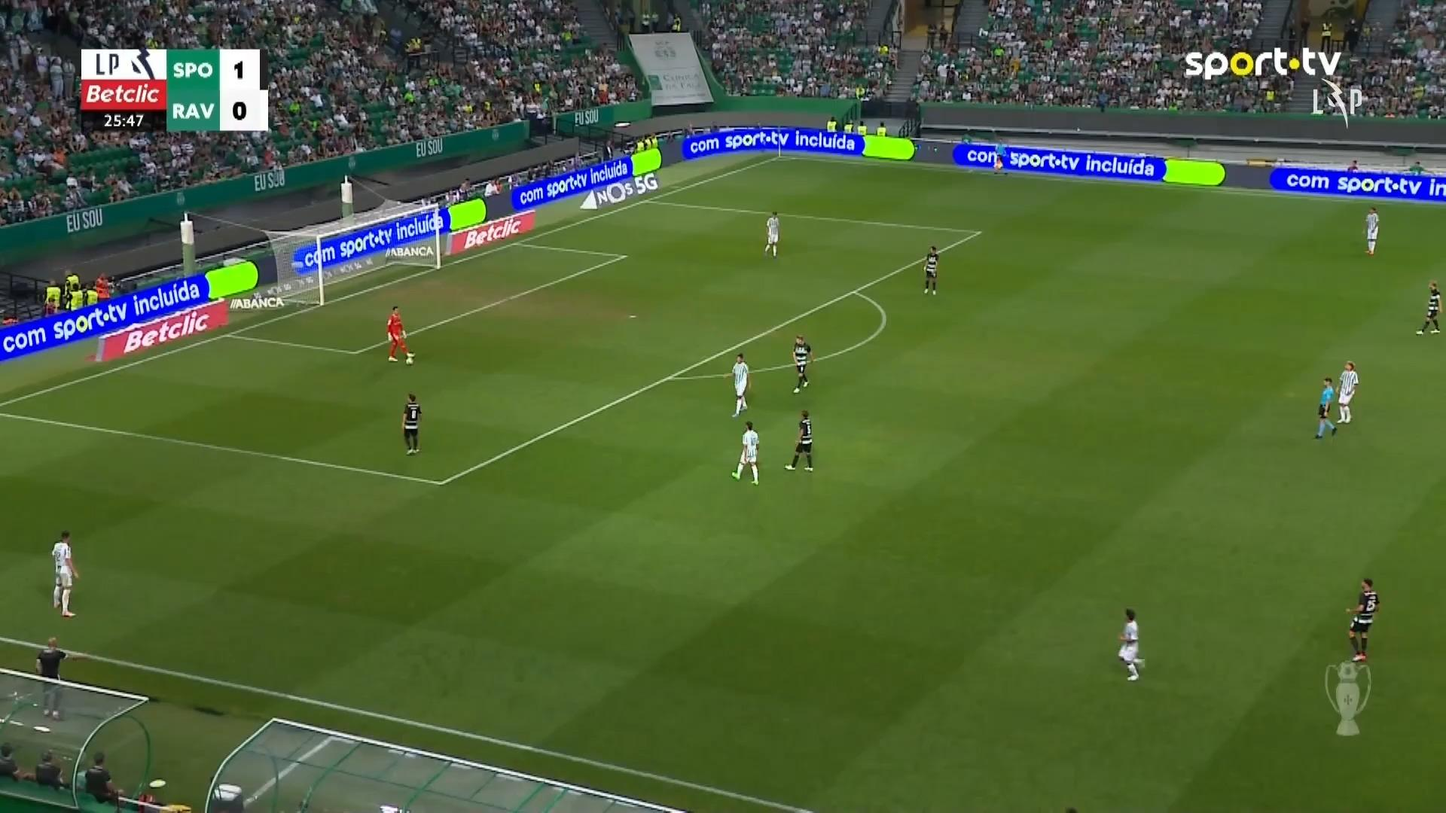ball: (405, 357, 414, 366)
goalkeeper: (385, 305, 414, 365)
player: (1344, 577, 1379, 662), (50, 530, 79, 617), (1117, 607, 1144, 681), (731, 420, 760, 485), (783, 409, 813, 471), (1335, 360, 1359, 423), (1414, 279, 1441, 335), (728, 352, 749, 417), (401, 392, 422, 455), (792, 333, 812, 394), (922, 245, 939, 294), (763, 210, 780, 257), (1363, 206, 1379, 254)
referee: (35, 636, 67, 719), (1313, 376, 1336, 438), (992, 138, 1007, 174)
